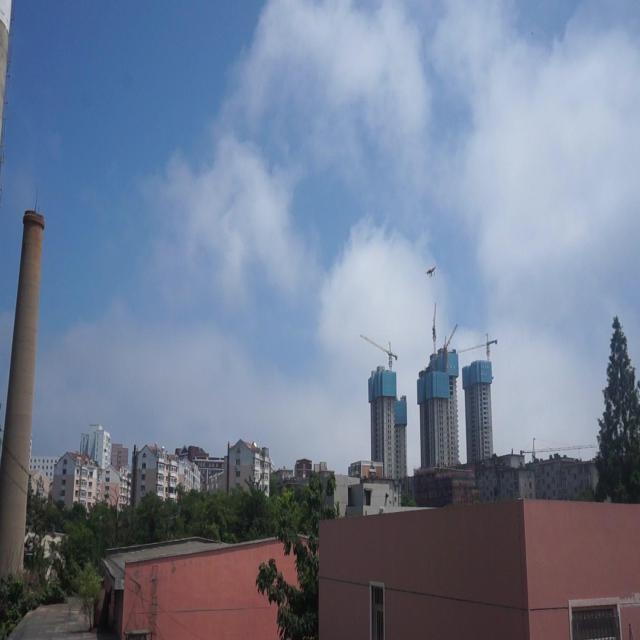drone: (425, 266, 435, 280)
